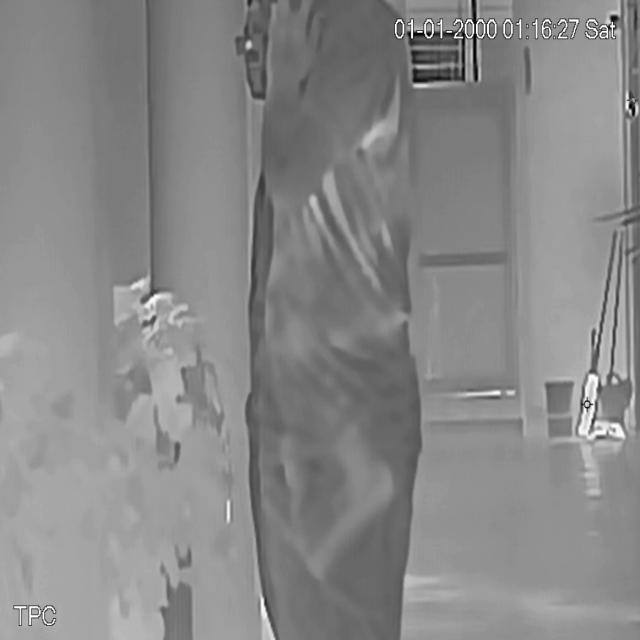Weapon: (310, 419, 420, 584)
